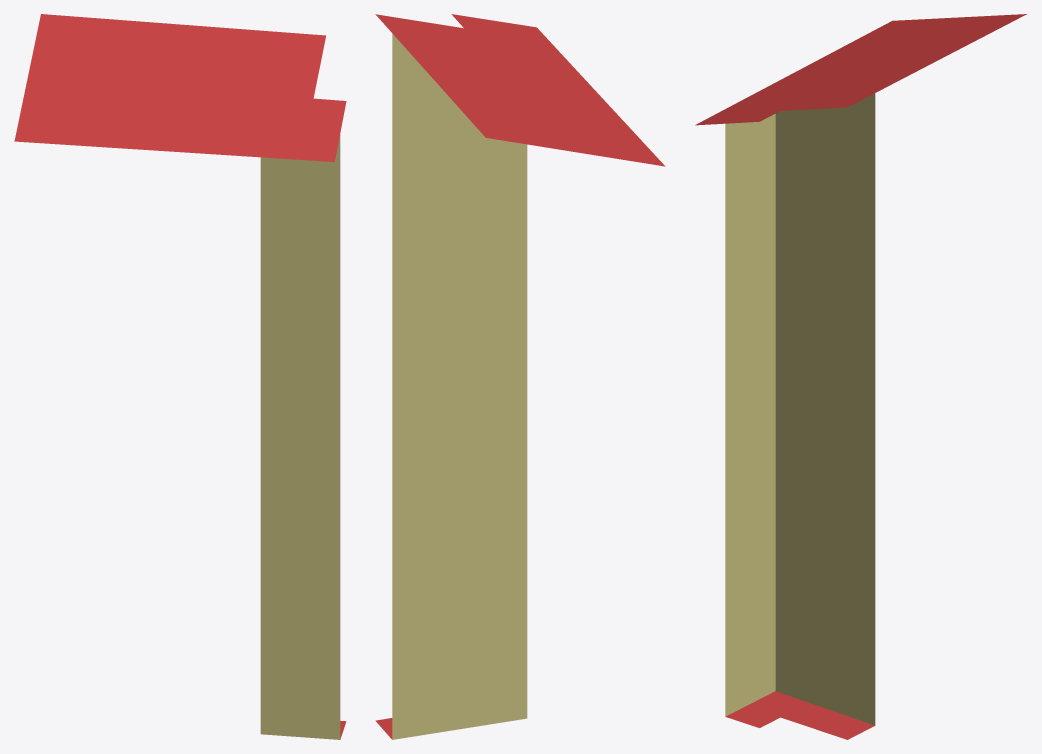
3 renders of one model, left to right at view 1: azimuth 30°, elevation 25°; view 2: azimuth 150°, elevation 25°; view 3: azimuth 270°, elevation 25°, orthographic. The views are drawn at different scales.
Size of the model in its own units: 4.84 by 4.94 by 10.38.
